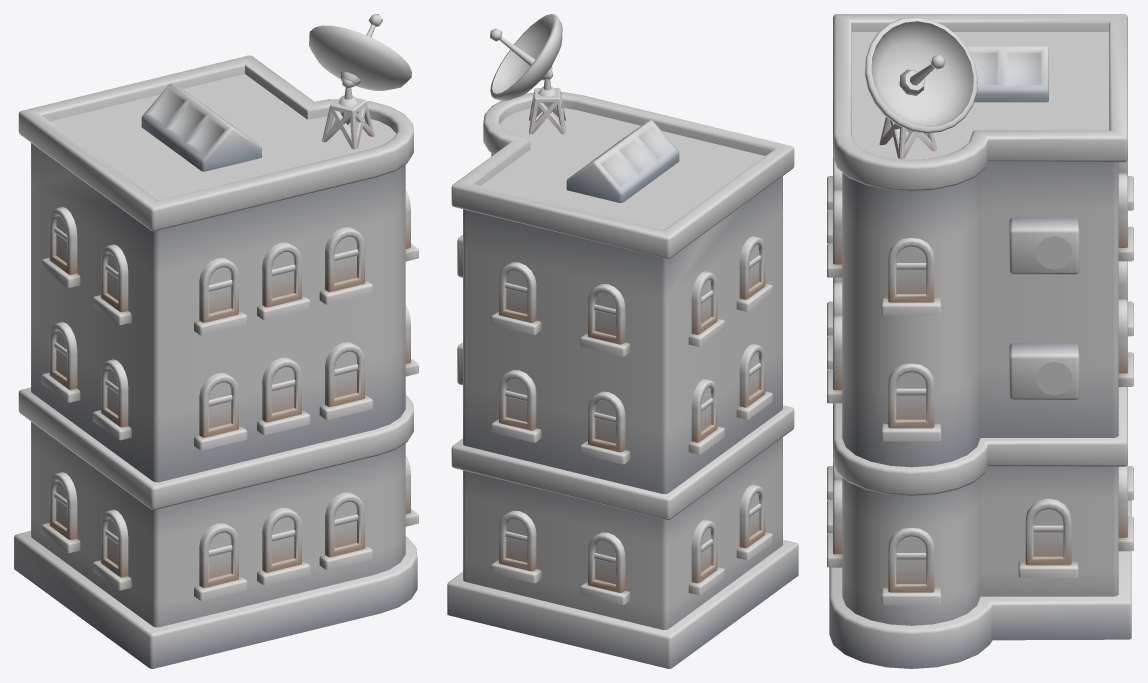
File: NF_Bld_Apartment 06.fbx
The picture shows the model from 3 angles, left to right: view 1: azimuth 30°, elevation 25°; view 2: azimuth 150°, elevation 25°; view 3: azimuth 270°, elevation 25°; orthographic projection. The views are drawn at different scales.
Parts seen in each view (by area): view 1: Apart_06; view 2: Apart_06; view 3: Apart_06.
Boxes of the visible parts, box(x1,y1,x2,y2) form: Apart_06: box(14, 14, 418, 668); Apart_06: box(447, 14, 798, 668); Apart_06: box(827, 14, 1133, 668).
Size of the model in its own units: 8.12 by 14.71 by 6.66.
